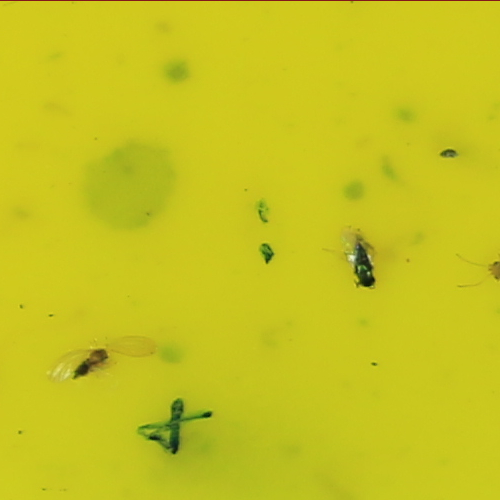psylla: (72, 344, 112, 380)
wasp: (349, 245, 376, 288)
